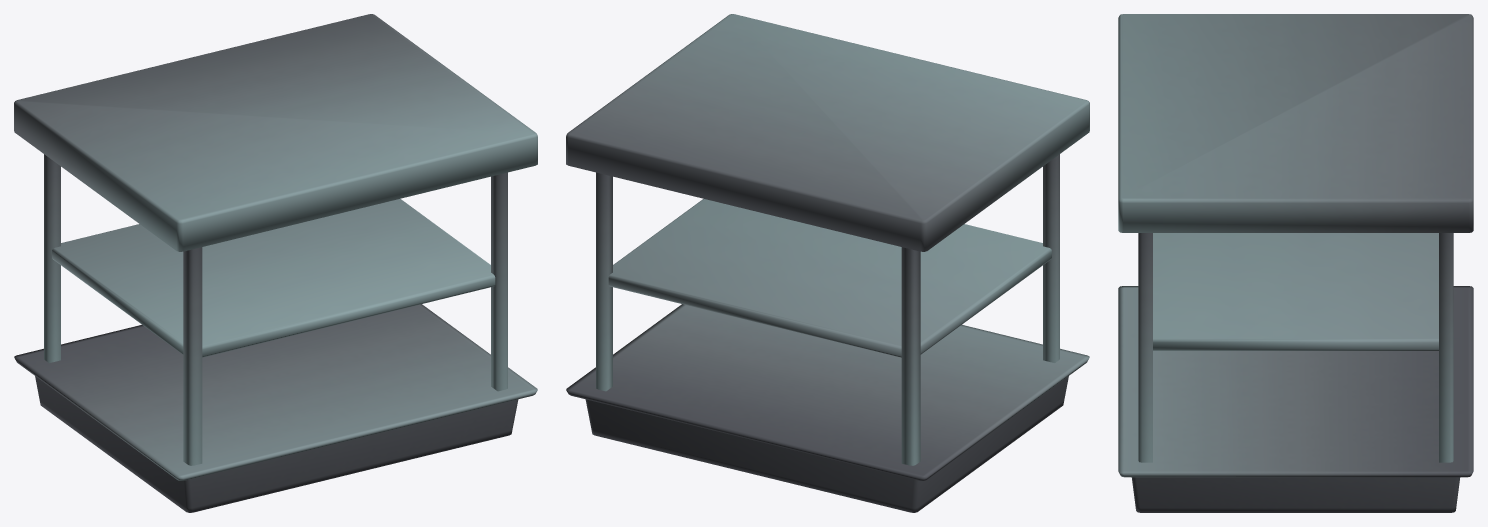
The model's file is environment_cooking shelf.fbx.
3 views of the same model, side by side, from view 1: azimuth 30°, elevation 25°; view 2: azimuth 150°, elevation 25°; view 3: azimuth 270°, elevation 25° (orthographic). The views are drawn at different scales.
Parts seen in each view (by area): view 1: environment_cooking shelf; view 2: environment_cooking shelf; view 3: environment_cooking shelf.
Boxes of the visible parts, x1,y1,x2,y2 form: environment_cooking shelf: (14, 14, 537, 512); environment_cooking shelf: (566, 14, 1089, 512); environment_cooking shelf: (1118, 14, 1473, 512).
Bounding box in the file's own units: 80 × 64 × 64.
